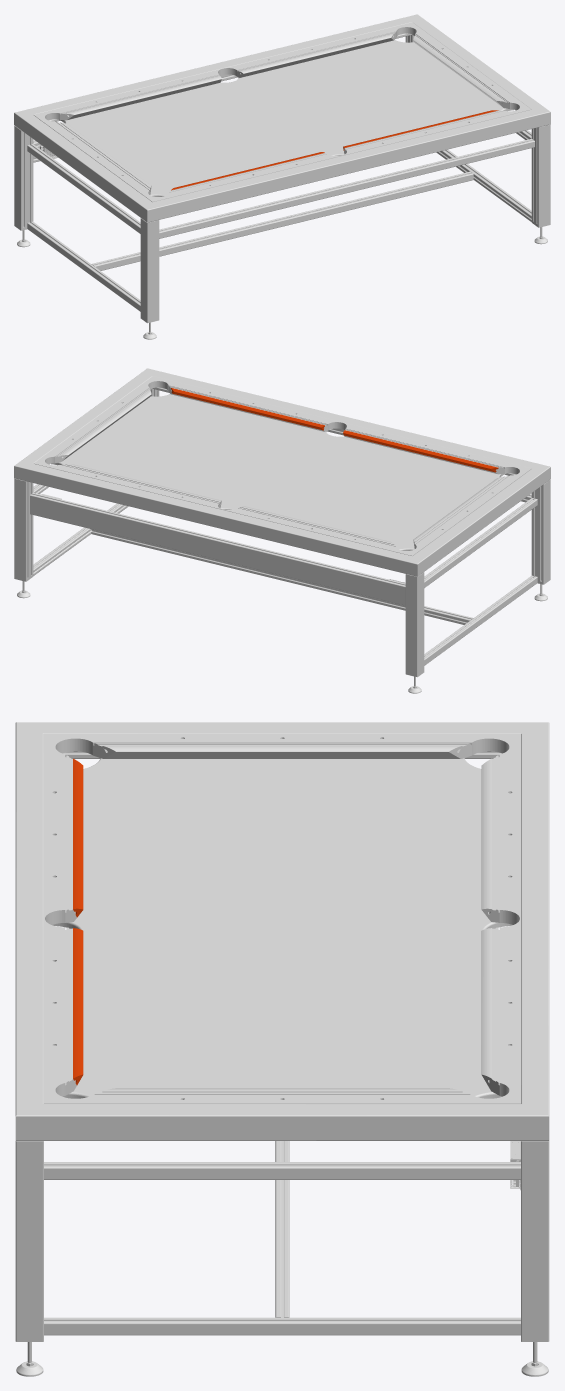
Rendered from BilliardTable.fbx.
3 renders of one model, top to bottom at view 1: azimuth 30°, elevation 25°; view 2: azimuth 150°, elevation 25°; view 3: azimuth 270°, elevation 25°, orthographic. The views are drawn at different scales.
Parts seen in each view (by area): view 1: SlatePMMA8, FrameLeft, StabilizerLeft, StabilizerCenterLow, RailSightsRight, FrameFoot, FrameRight, RailSightsLeft, LegFootLeft, LegHeadLeft, CushionsRight, LegFootRight (+8 smaller); view 2: SlatePMMA8, ProjectorBeam, FrameRight, RailSightsLeft, FrameFoot, FrameLeft, RailSightsRight, StabilizerCenterLow, LegFootRight, CushionsLeft, LegHeadRight, LegFootLeft (+8 smaller); view 3: SlatePMMA8, FrameHead, FrameLeft, FrameRight, RailSightsLeft, RailSightsRight, StabilizerHeadLow, StabilizerHead, RailSightsFoot, FrameFoot, LegHeadLeft, LegHeadRight (+7 smaller).
Boxes of the visible parts, bbox=[...] form: SlatePMMA8: bbox=[59, 40, 513, 196]; FrameLeft: bbox=[147, 109, 550, 222]; StabilizerLeft: bbox=[159, 138, 534, 238]; StabilizerCenterLow: bbox=[91, 171, 473, 270]; RailSightsRight: bbox=[34, 22, 411, 120]; FrameFoot: bbox=[14, 112, 152, 222]; FrameRight: bbox=[15, 14, 416, 121]; RailSightsLeft: bbox=[153, 108, 531, 201]; LegFootLeft: bbox=[140, 218, 159, 320]; LegHeadLeft: bbox=[531, 124, 550, 224]; CushionsRight: bbox=[66, 34, 393, 118]; LegFootRight: bbox=[14, 125, 33, 228]; SlatePMMA8: bbox=[51, 394, 505, 550]; ProjectorBeam: bbox=[30, 492, 405, 605]; FrameRight: bbox=[14, 463, 417, 576]; RailSightsLeft: bbox=[153, 376, 530, 474]; FrameFoot: bbox=[412, 466, 550, 576]; FrameLeft: bbox=[148, 368, 549, 475]; RailSightsRight: bbox=[33, 462, 411, 555]; StabilizerCenterLow: bbox=[91, 529, 473, 624]; LegFootRight: bbox=[405, 572, 424, 674]; CushionsLeft: bbox=[171, 388, 498, 472]; LegHeadRight: bbox=[14, 478, 33, 578]; LegFootLeft: bbox=[531, 479, 550, 582]; SlatePMMA8: bbox=[52, 758, 512, 1098]; FrameHead: bbox=[15, 1104, 549, 1140]; FrameLeft: bbox=[15, 722, 43, 1115]; FrameRight: bbox=[521, 722, 549, 1115]; RailSightsLeft: bbox=[44, 734, 76, 1103]; RailSightsRight: bbox=[488, 734, 520, 1103]; StabilizerHeadLow: bbox=[44, 1317, 520, 1335]; StabilizerHead: bbox=[44, 1162, 520, 1179]; RailSightsFoot: bbox=[44, 733, 520, 758]; FrameFoot: bbox=[18, 722, 546, 758]; LegHeadLeft: bbox=[15, 1141, 43, 1336]; LegHeadRight: bbox=[521, 1141, 549, 1336].
Bounding box in the file's own units: 298 × 92.24 × 171.
